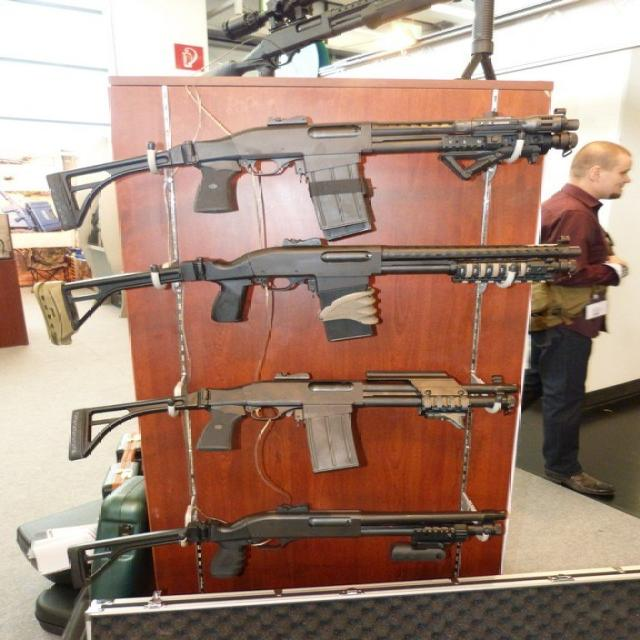firearm: (47, 106, 581, 238), (33, 243, 584, 347), (69, 371, 517, 473), (68, 506, 509, 588)
